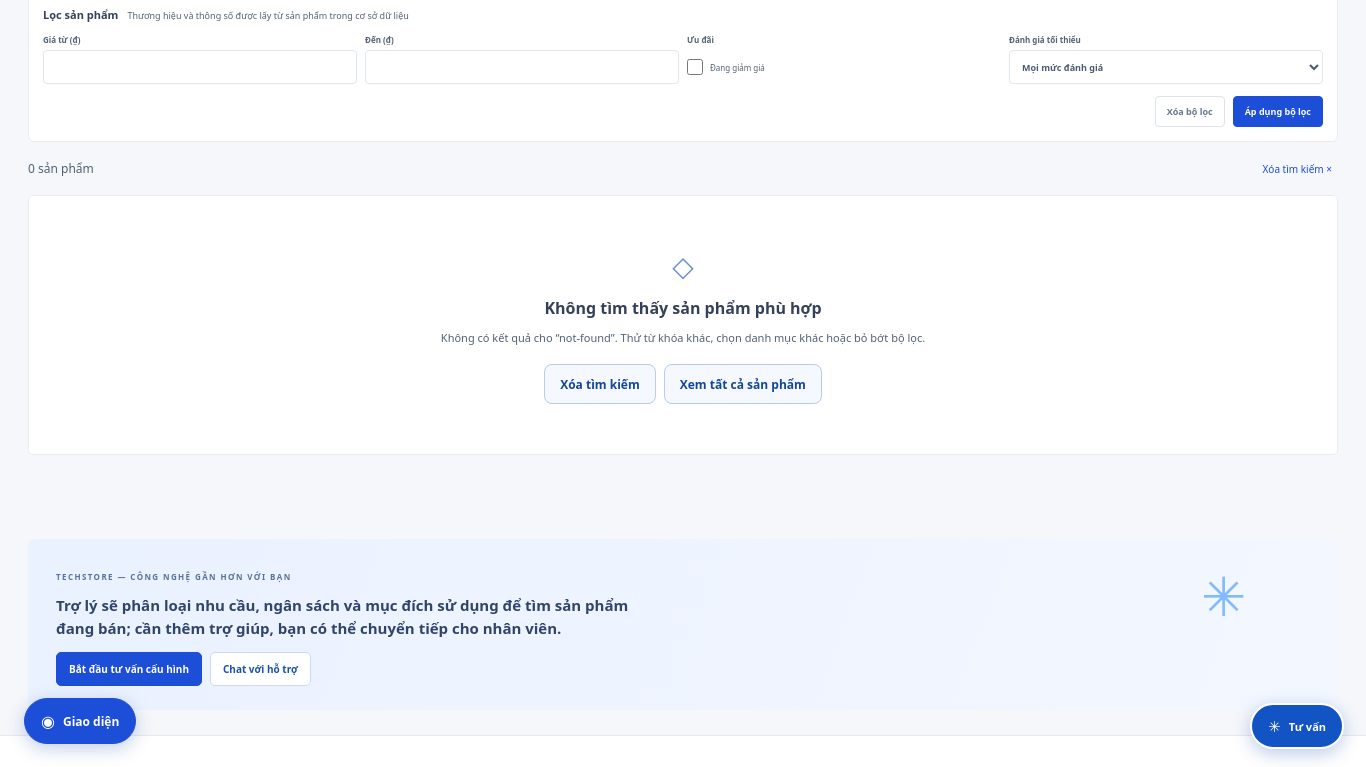
storefront catalog › shows useful empty-search actions only after all matching categories load
(page scrolled)
Expected: the text "Không có kết quả cho “not-found”. Thử từ khóa khác, chọn danh mục khác hoặc bỏ bớt bộ lọc." is shown, [441, 330, 925, 345]
Click the button "Xóa tìm kiếm": click(600, 384) [544, 364, 656, 404]
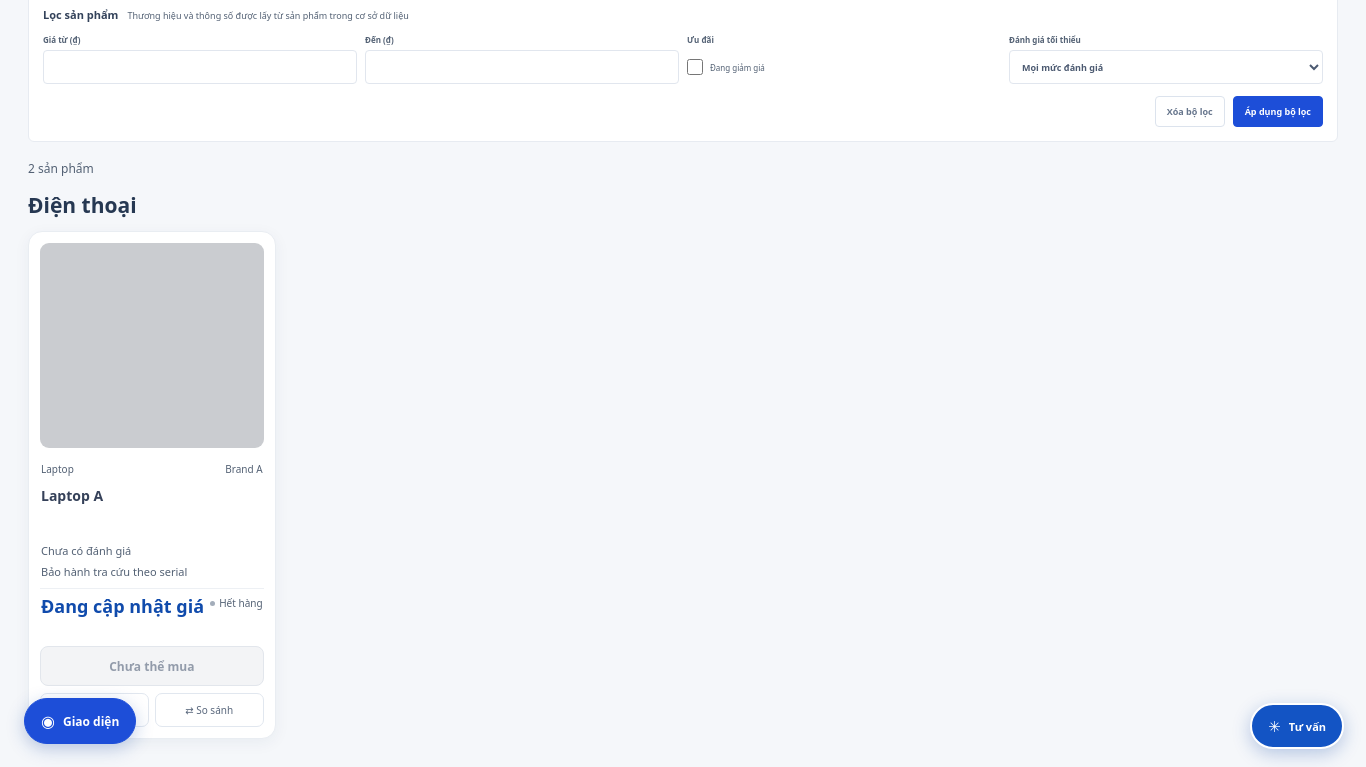
Expected: the link "Laptop A" is shown, [41, 486, 103, 505]
